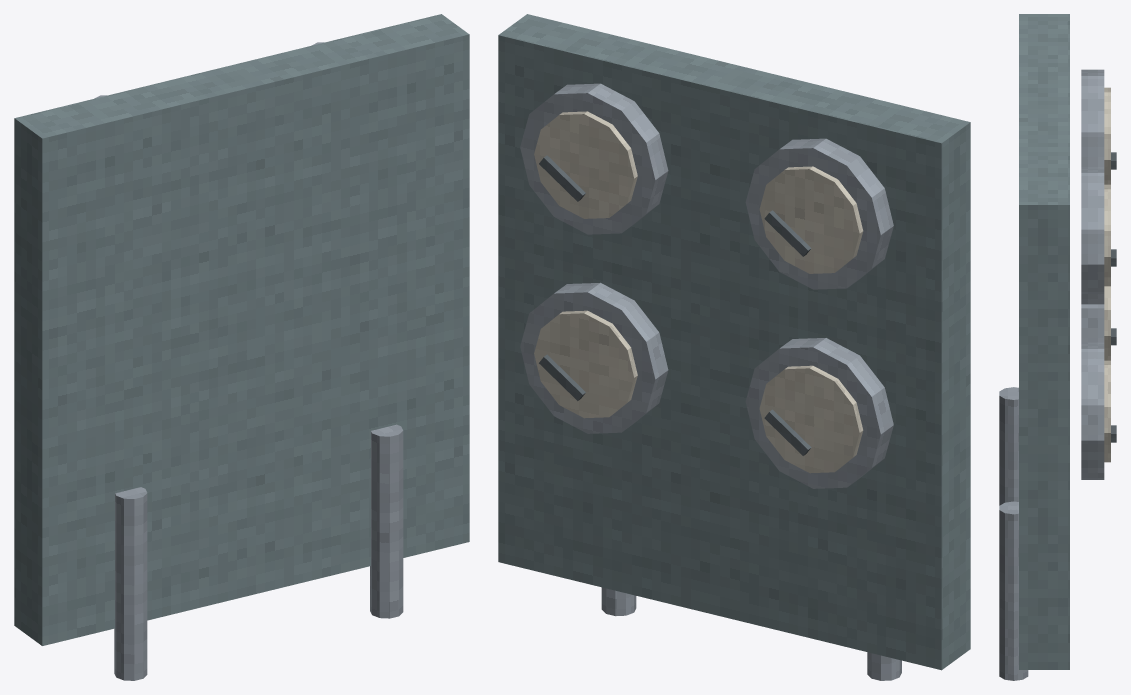
The model's file is level_blockout_dam_pressure_gauge_panel.glb.
3 renders of one model, left to right at view 1: azimuth 30°, elevation 25°; view 2: azimuth 150°, elevation 25°; view 3: azimuth 270°, elevation 25°, orthographic. The views are drawn at different scales.
Visible parts, largest first — view 1: level_blockout_dam_pressure_gauge_panel; view 2: level_blockout_dam_pressure_gauge_panel; view 3: level_blockout_dam_pressure_gauge_panel.
Boxes of the visible parts, x1,y1,x2,y2 form: level_blockout_dam_pressure_gauge_panel: [14, 14, 469, 680]; level_blockout_dam_pressure_gauge_panel: [498, 14, 970, 680]; level_blockout_dam_pressure_gauge_panel: [999, 14, 1116, 680].
Size of the model in its own units: 1.77 by 2.2 by 0.4601.
Materials: 4 (4 with a texture image).
